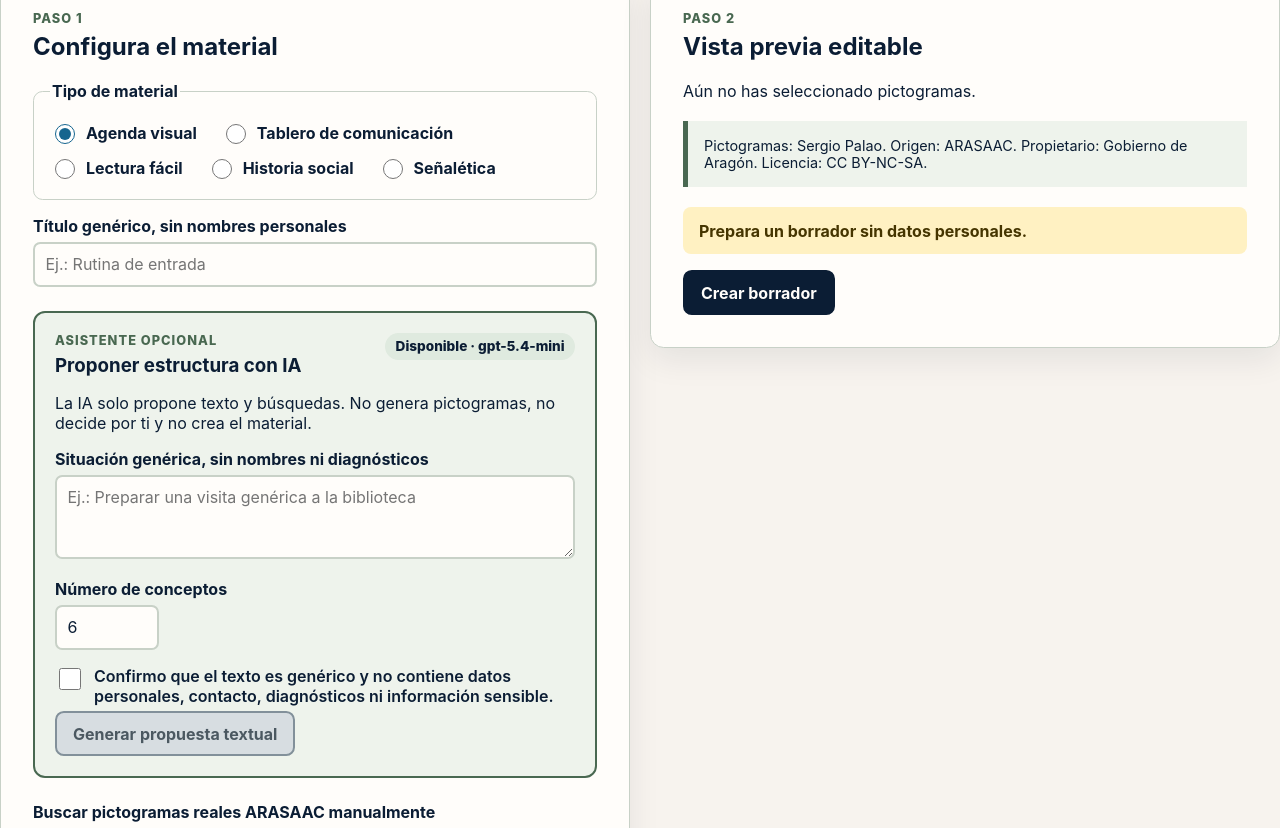
Test: guided material flow › uses an AI text plan but requires explicit ARASAAC selection
The image size is (1280, 828).
Expected: the text "Disponible · gpt-5.4-mini" is shown, [385, 333, 575, 360]
Type "Preparar una visita genérica a la biblioteca" into the text box labelled "Situación genérica, sin nombres ni diagnósticos" at (315, 517), box [55, 475, 575, 560]
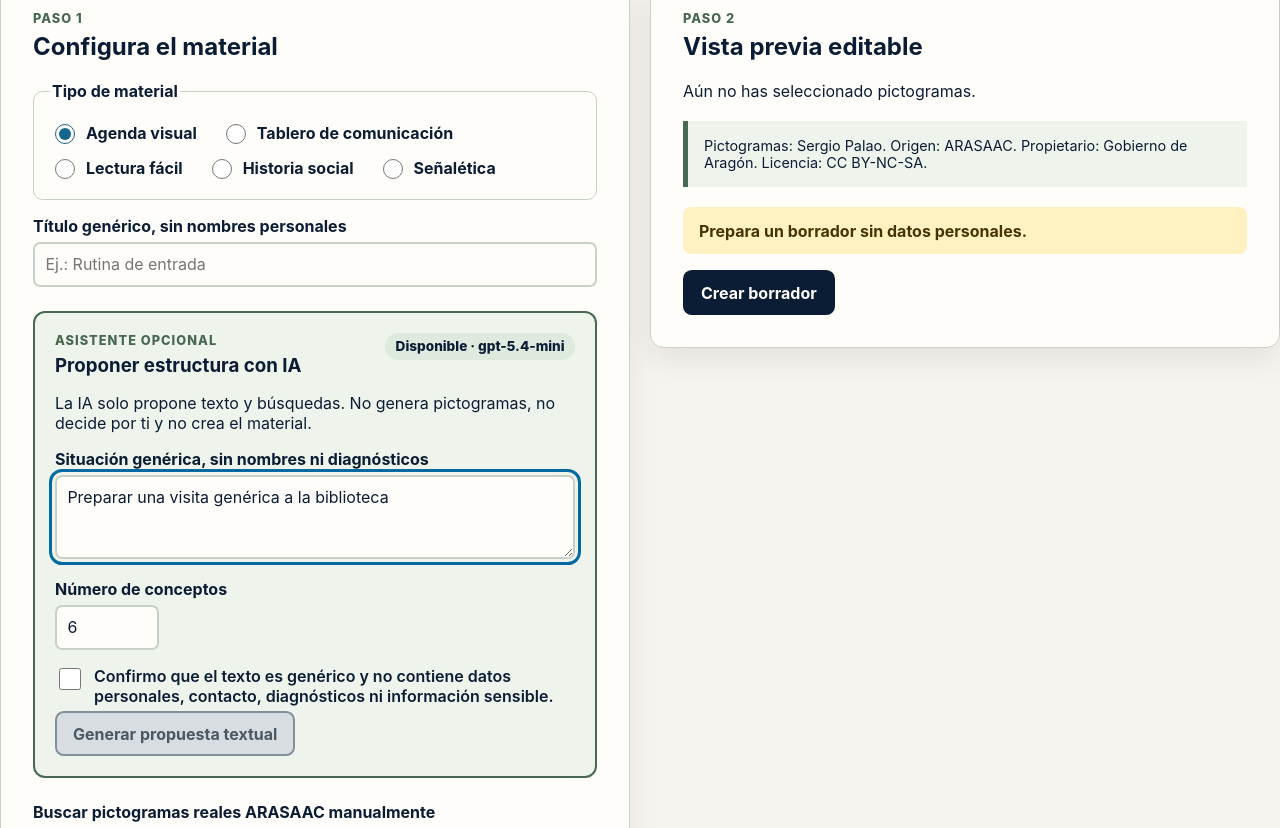
Click the checkbox labelled "Confirmo que el texto es genérico" at (70, 679), box [59, 668, 81, 690]
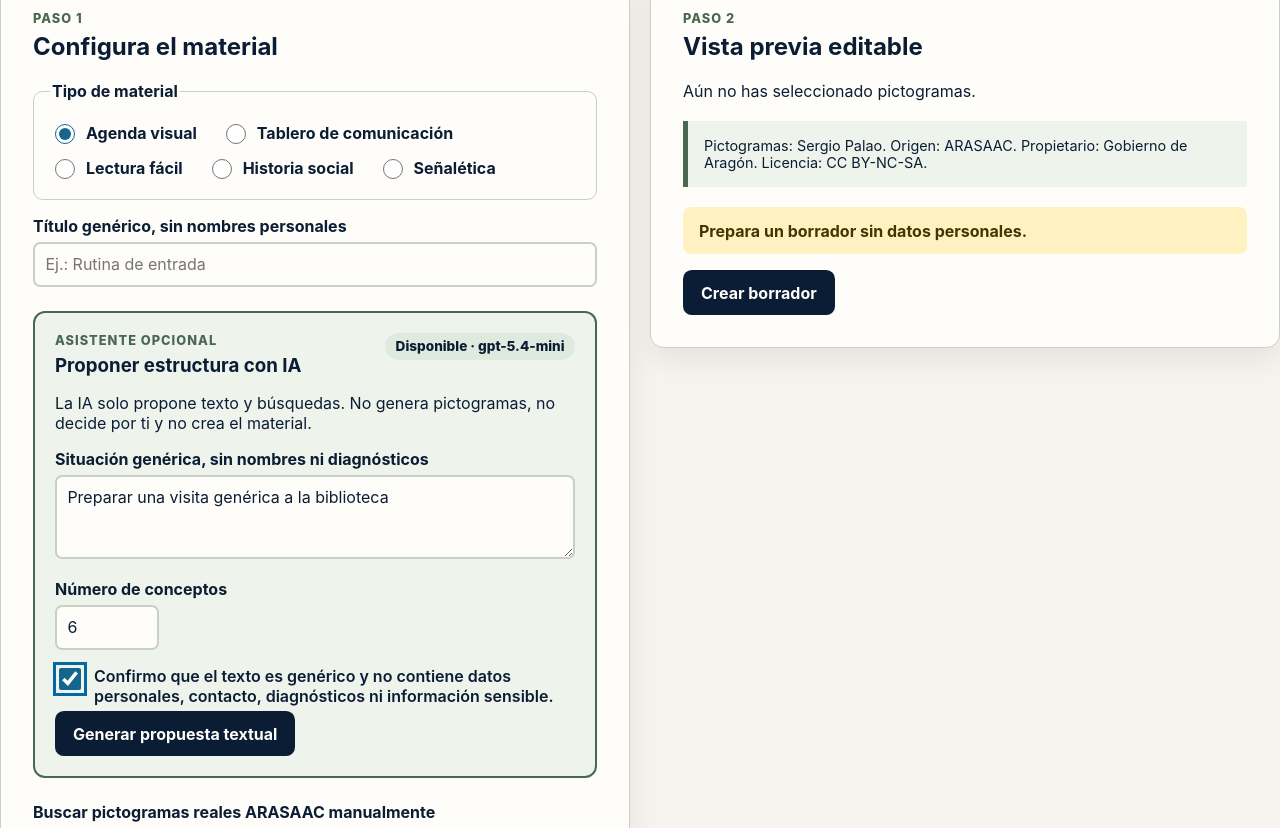
Replace the text in the number field labelled "Número de conceptos" with "1" at (107, 627), box [55, 605, 159, 650]
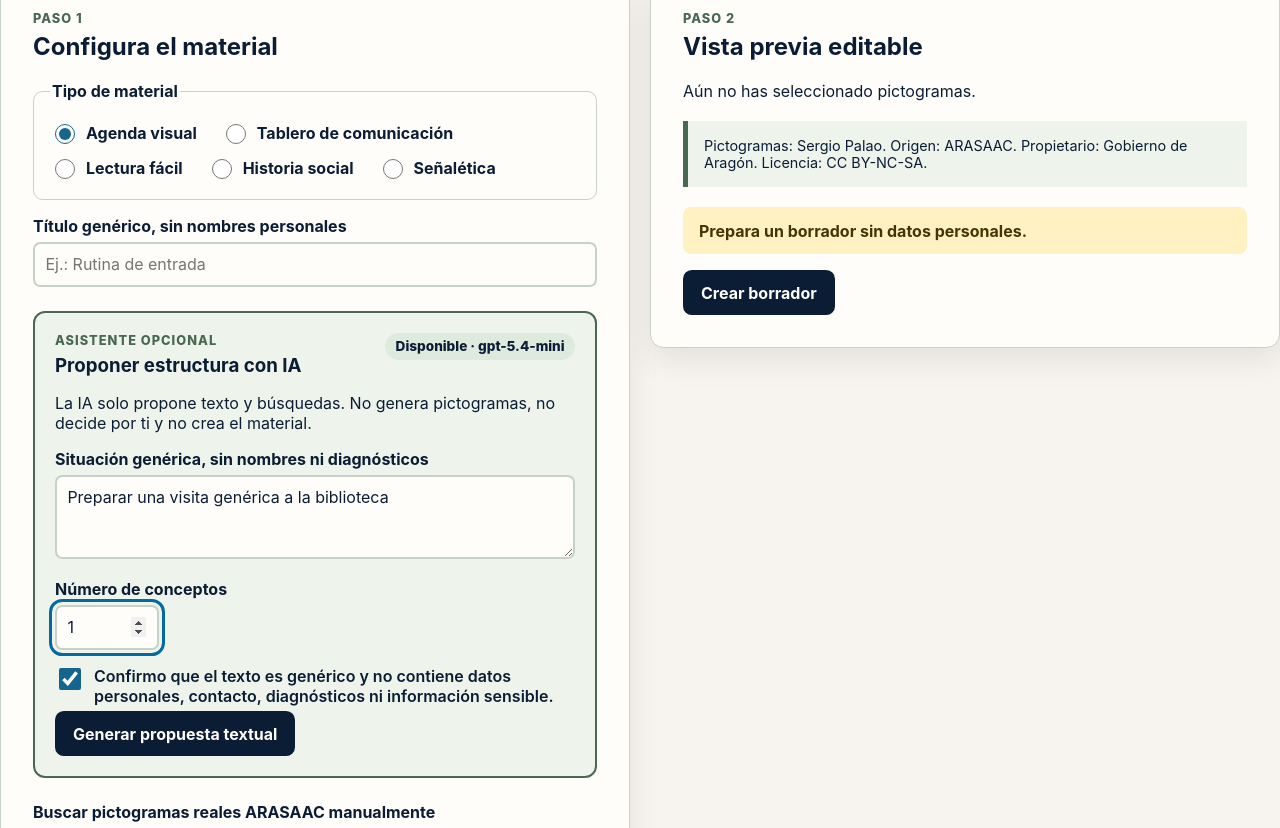
Click the button "Generar propuesta textual" at (175, 734), box [55, 711, 295, 756]
(page scrolled)
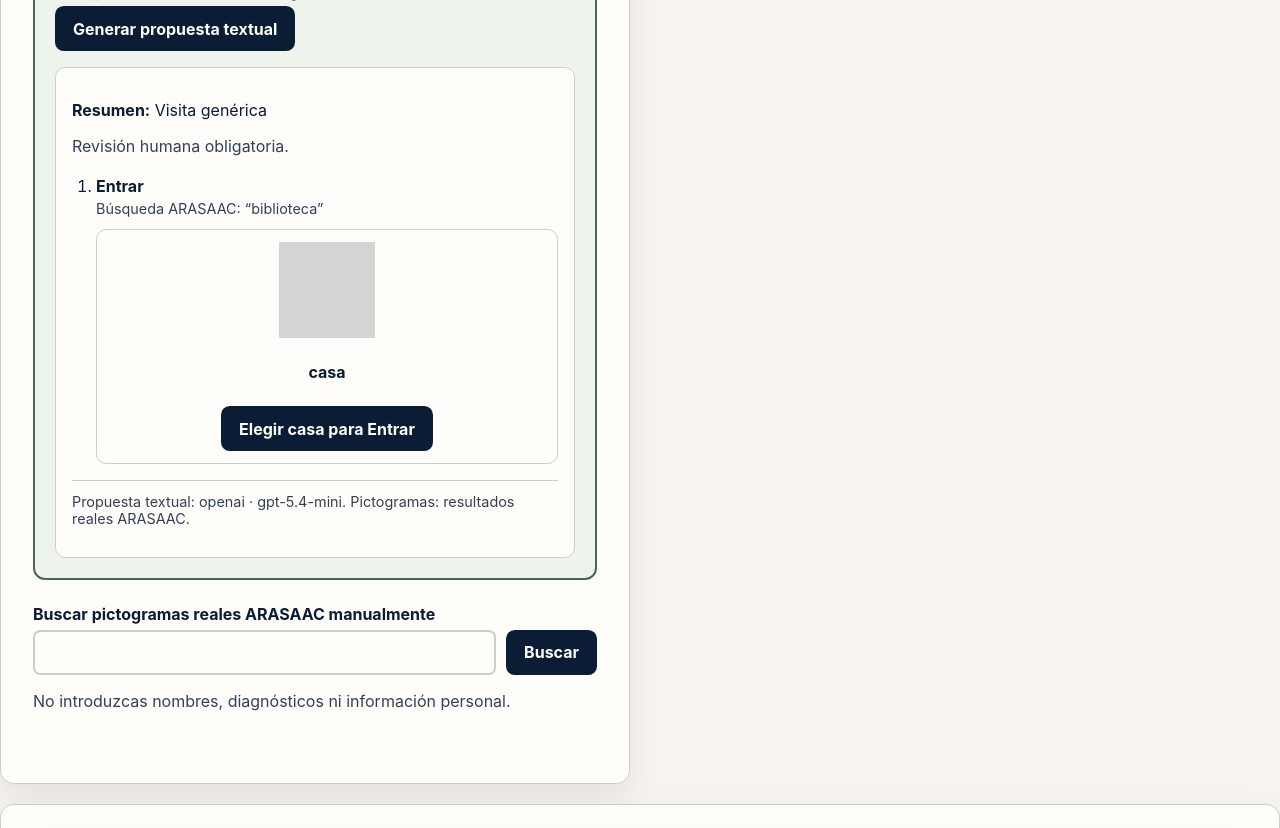
Expected: the text "Visita genérica" is shown, [155, 100, 267, 120]
Click the button "Elegir casa para Entrar" at (327, 429), box [221, 406, 433, 451]
(page scrolled)
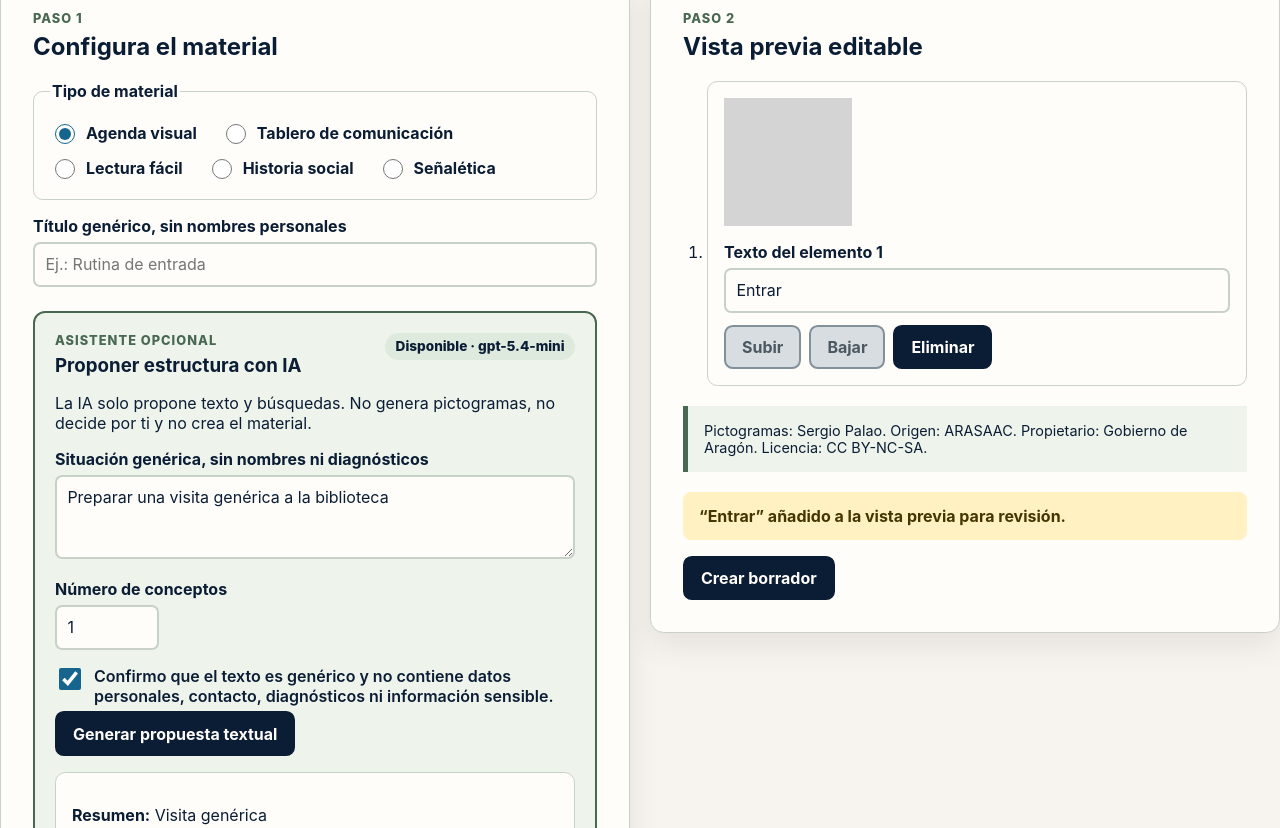
Expected: the field labelled "Texto del elemento 1" holds "Entrar", [724, 268, 1230, 313]
